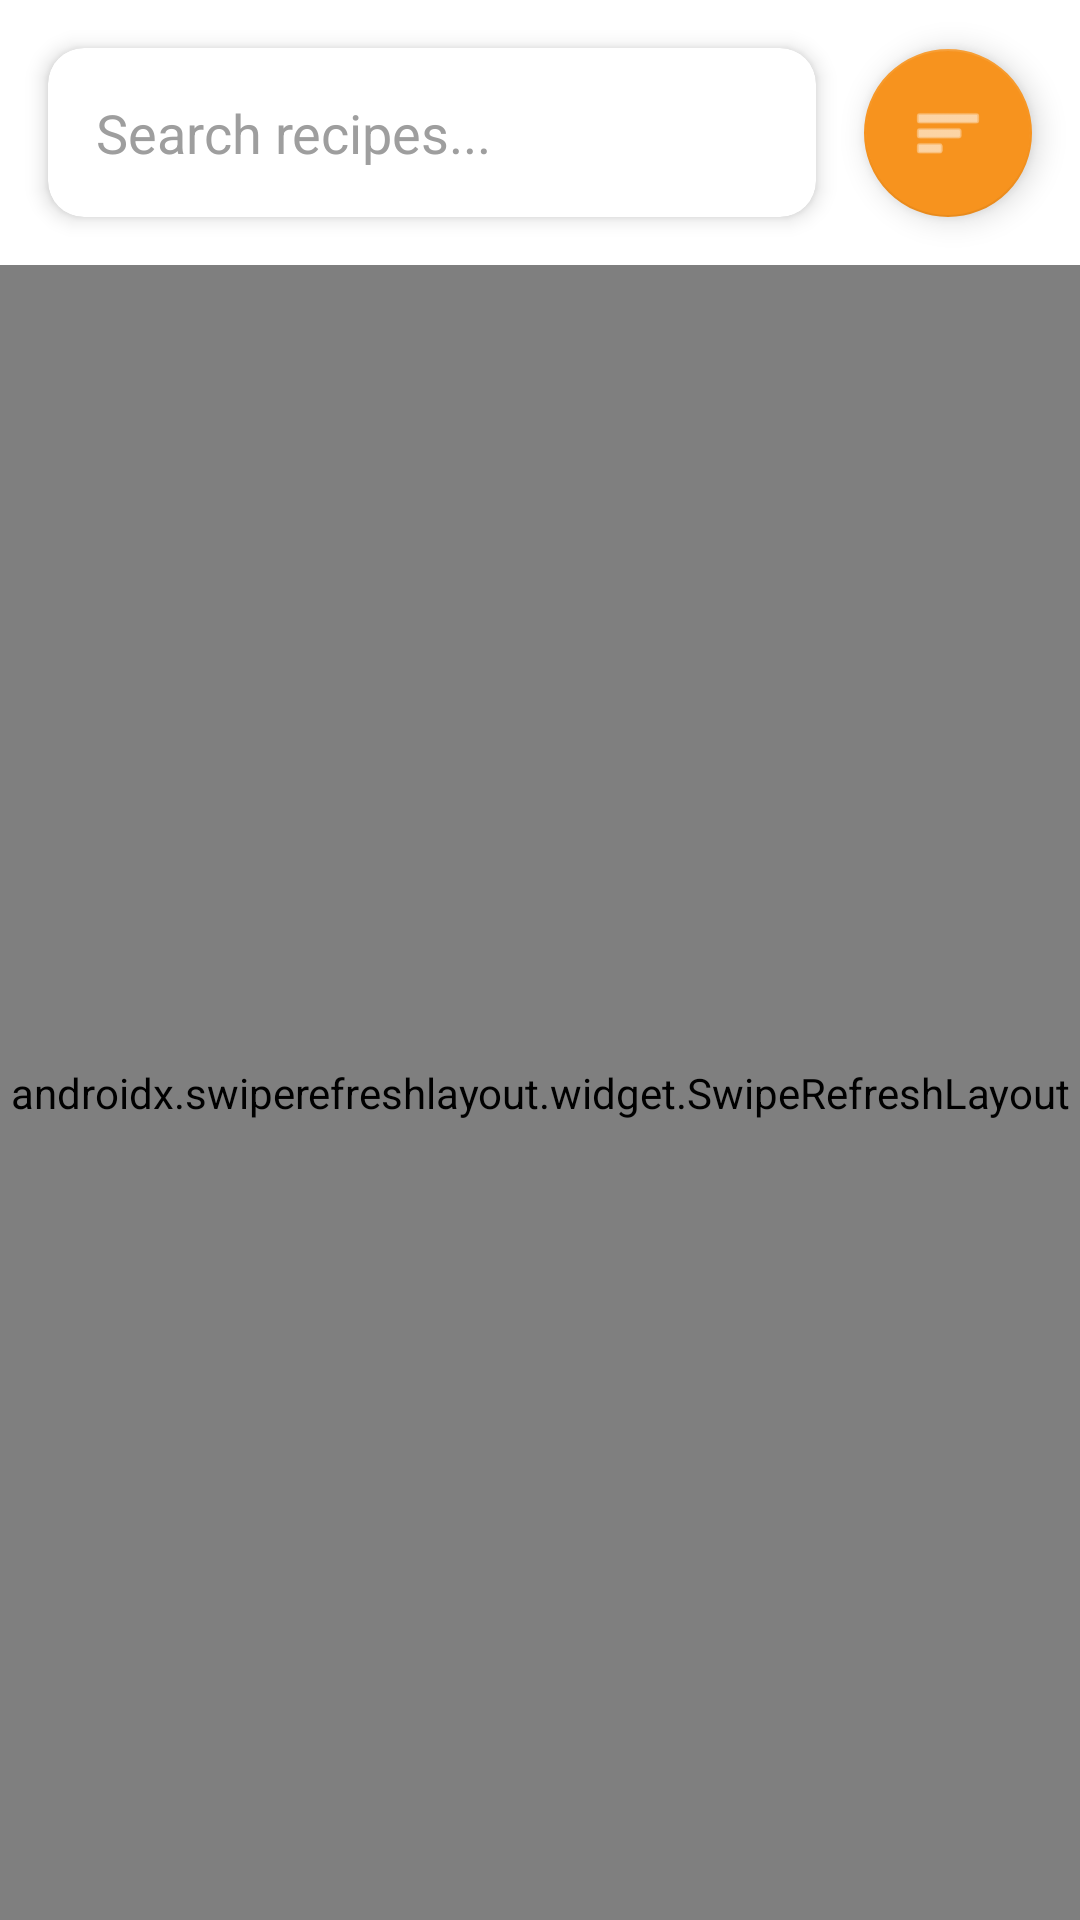

Icon bounding boxes for this 1080w x 1920h phone screenshot, format (x1, y1, x2, y2):
sort by size: (864, 49, 1032, 217)
